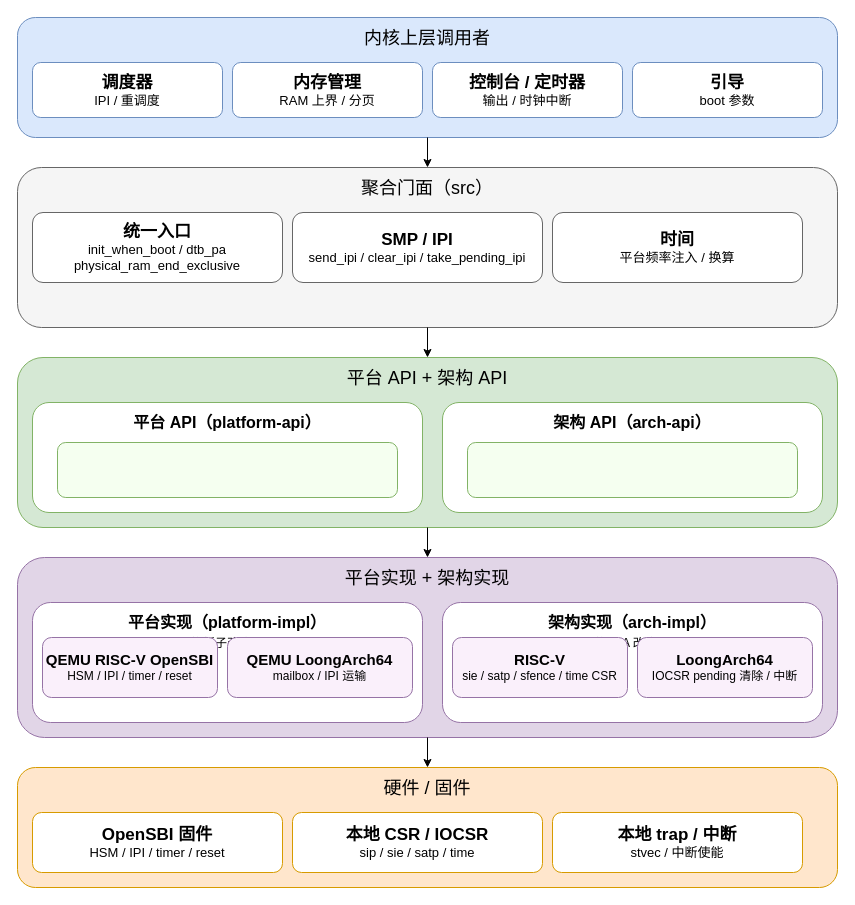
Some shapes in this 855 by 905 pixel diagram are drawn without their labels. The centre of each missing label's shape, as x and y in pixels:
"boot · time · smp console · timer · reset" goes at point 227,470.
"cpu · interrupt · trap paging · task · time" goes at point 632,470.
